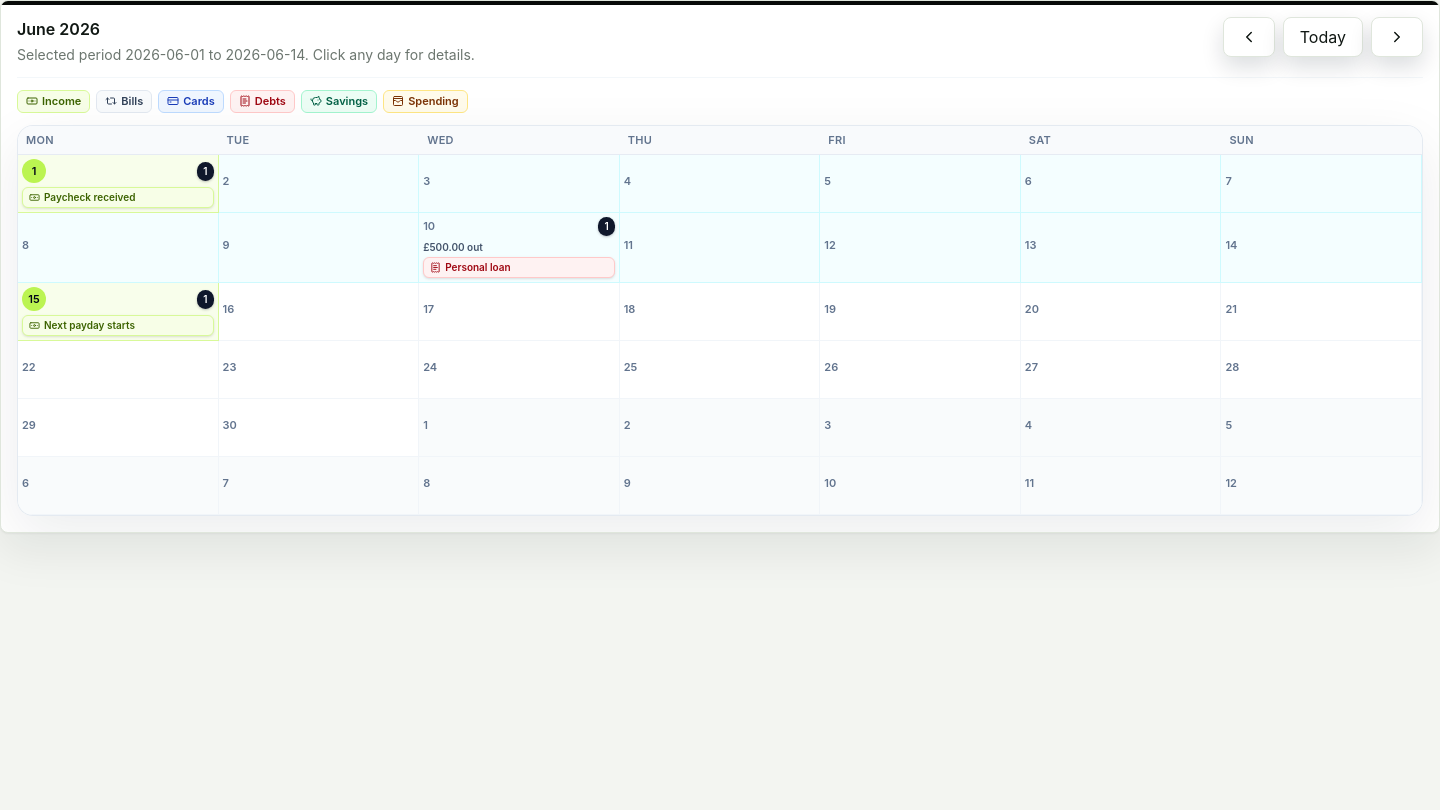
Test case: calendar page › shows the full linked-pot debt amount due on the calendar before the due date is paid
Click the button with aria-label "Open 10 June 2026": (519, 248) [419, 213, 620, 283]
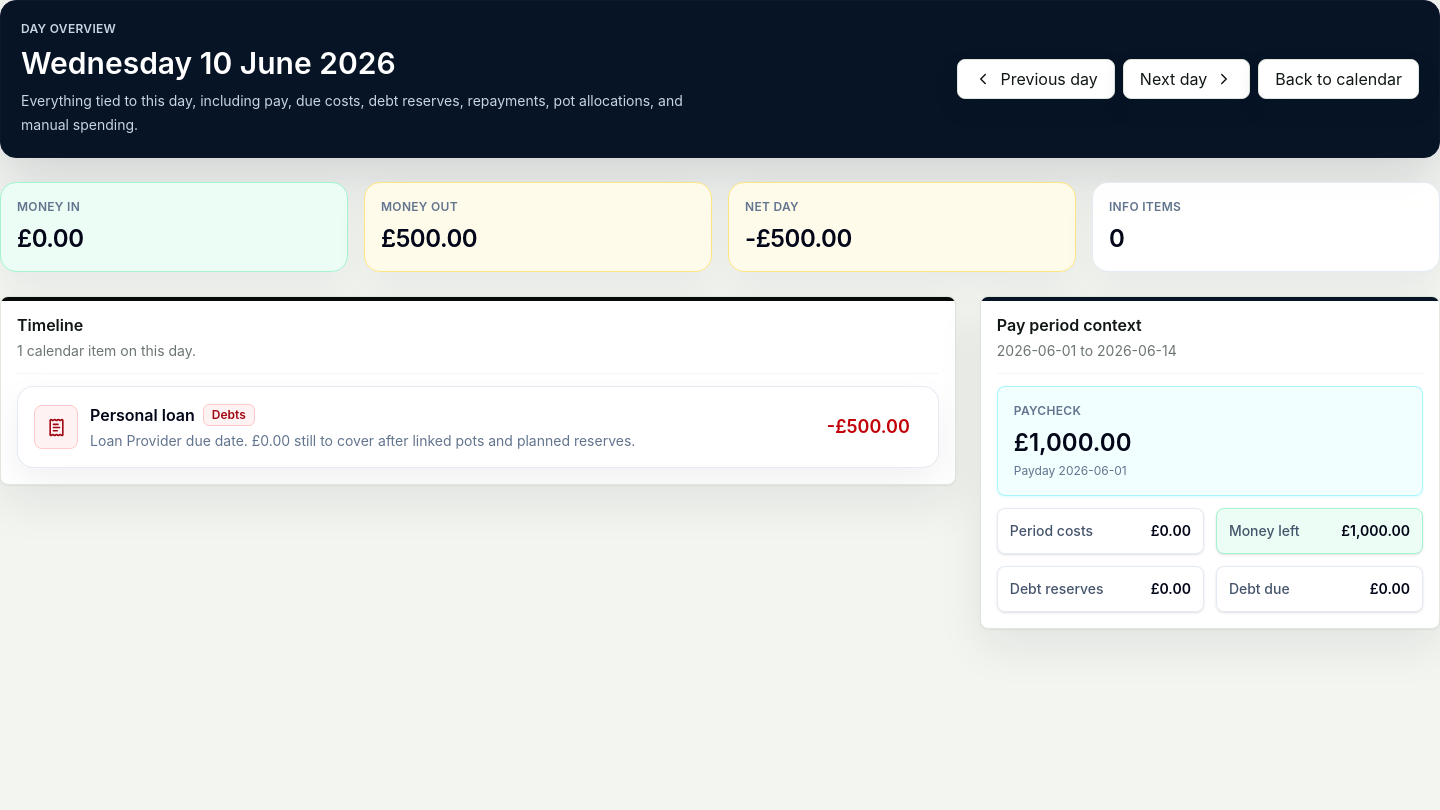
Expected: the heading "Personal loan" is shown, [90, 403, 195, 427]
Now the text "-£500.00" below "Net day" is shown, box [745, 224, 852, 253]
Now the text "Loan Provider due date. £0.00 still to cover after linked pots and planned reserves." is shown, box [90, 432, 635, 449]
